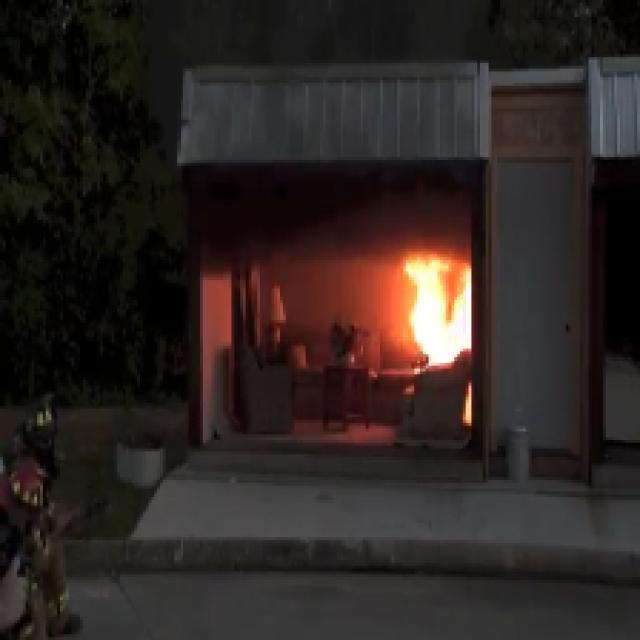Fire: (406, 246, 470, 354)
